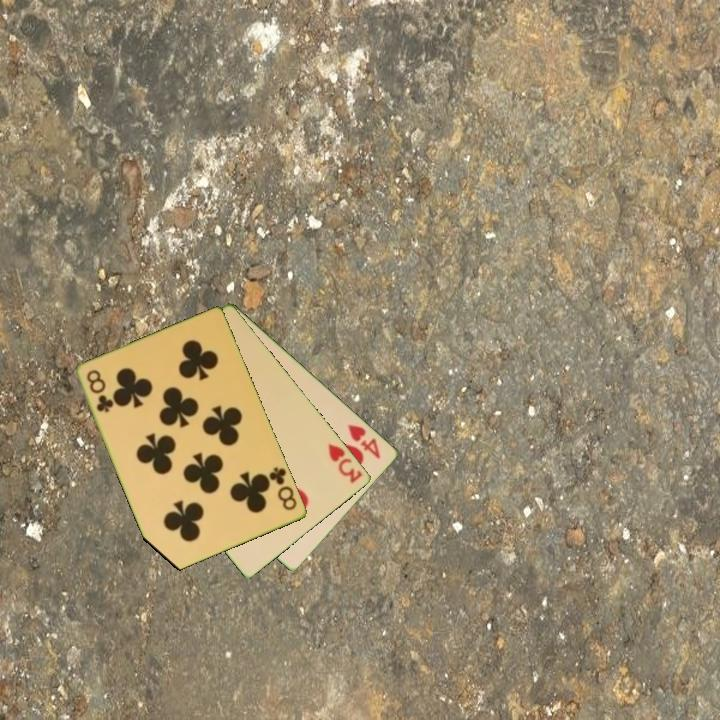3h: (325, 440, 366, 486)
4h: (344, 420, 384, 462)
8c: (266, 463, 300, 513), (83, 366, 116, 416)
